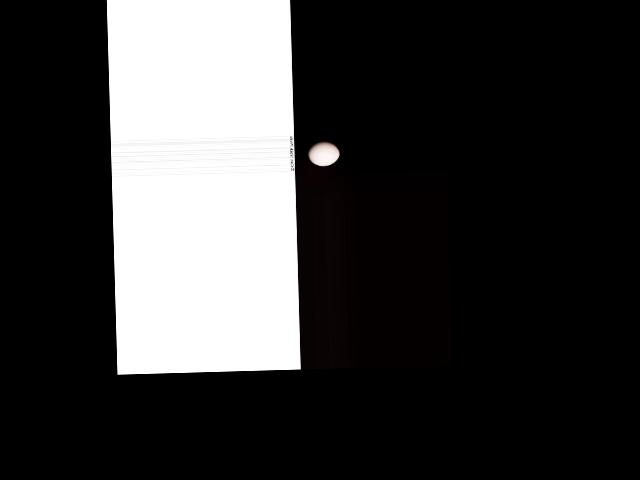egg: (307, 141, 339, 166)
